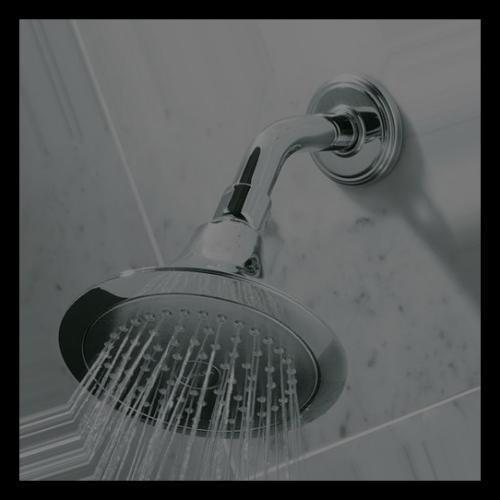Ducha: (20, 20, 480, 480)
